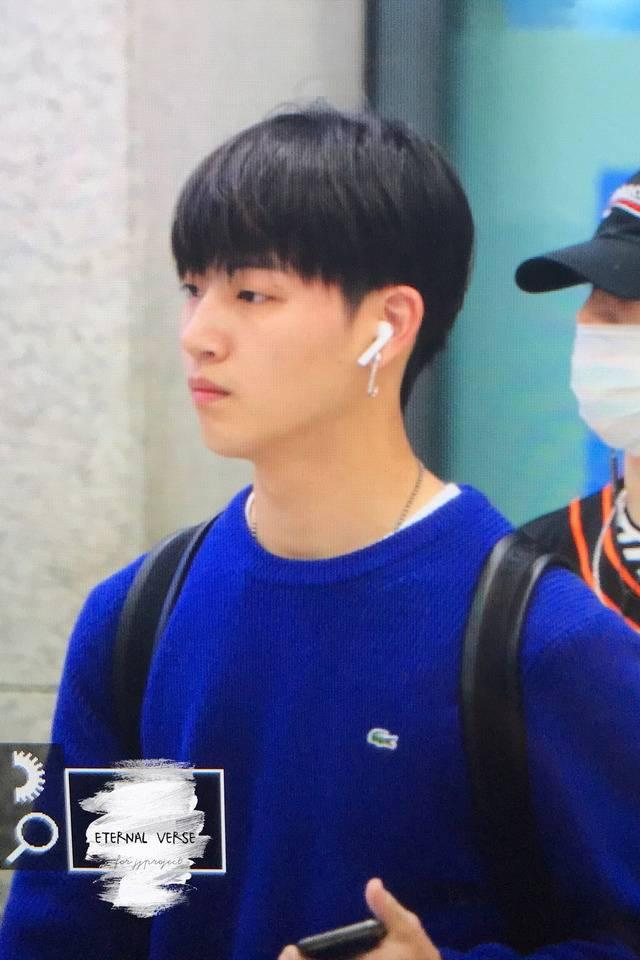earphone: (355, 307, 401, 366)
